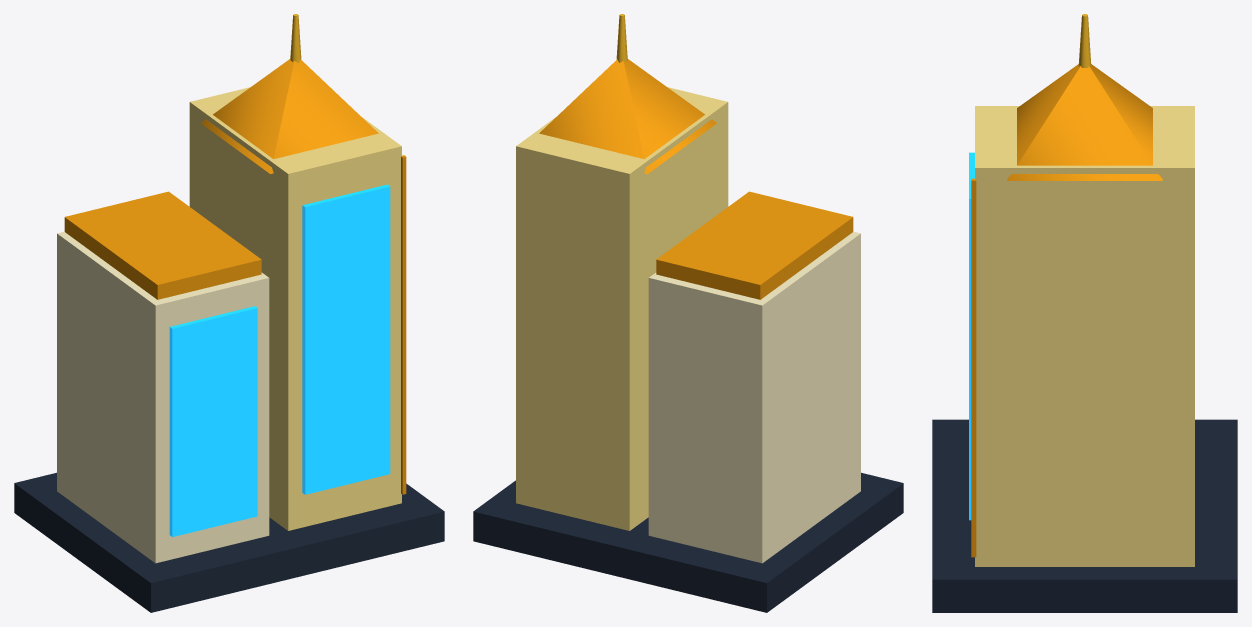
File: building_c3.glb
3 renders of one model, left to right at view 1: azimuth 30°, elevation 25°; view 2: azimuth 150°, elevation 25°; view 3: azimuth 270°, elevation 25°, orthographic. The views are drawn at different scales.
Parts seen in each view (by area): view 1: BuildingC3; view 2: BuildingC3; view 3: BuildingC3.
Part boxes in pixels (x1,y1,x2,y2): BuildingC3: (14,14,444,612); BuildingC3: (473,14,903,612); BuildingC3: (932,14,1237,612).
Bounding box in the file's own units: 0.62 × 1 × 0.5.
